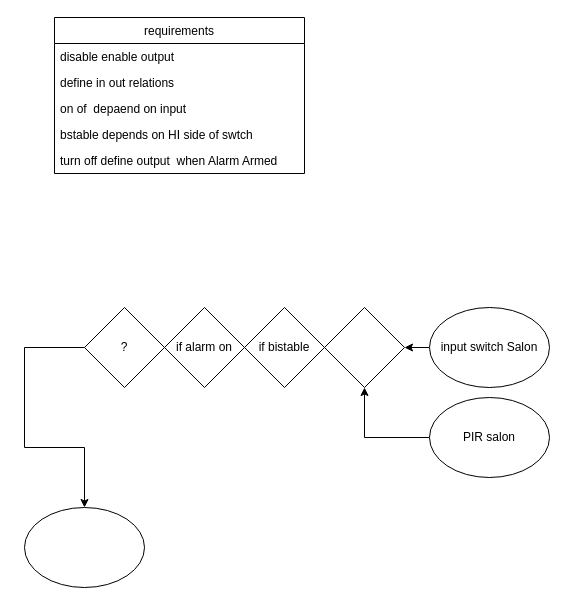
Some shapes in this 567 by 605 pixel diagram are drawn without their labels. The centre of each missing label's shape, as x and y in pixels:
"if on" goes at point 364,347.
"output SALON" goes at point 84,547.
